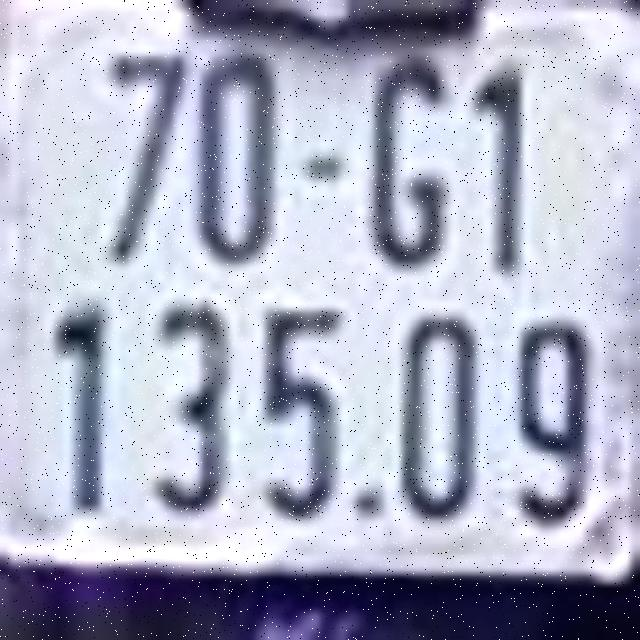0: (394, 304, 480, 521), (194, 48, 278, 264)
1: (468, 53, 544, 276), (47, 297, 117, 512)
3: (150, 293, 231, 514)
5: (260, 301, 344, 521)
7: (102, 45, 186, 265)
9: (511, 309, 593, 528)
G: (366, 48, 454, 272)
